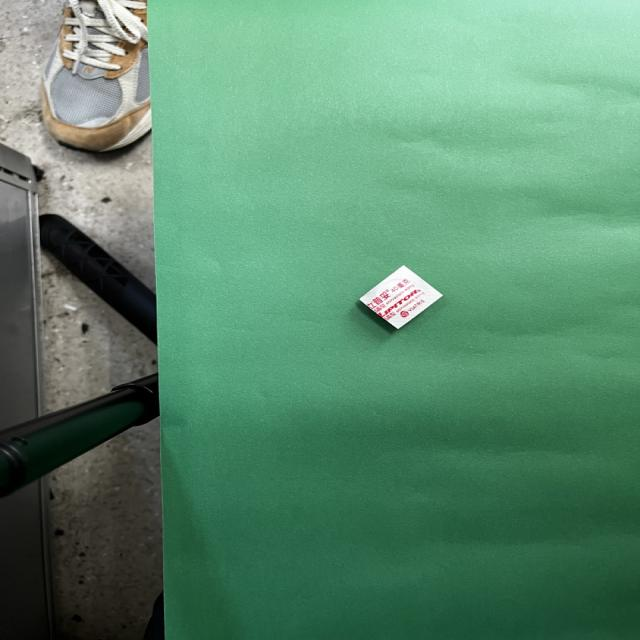Other Objects: (359, 266, 441, 328)
